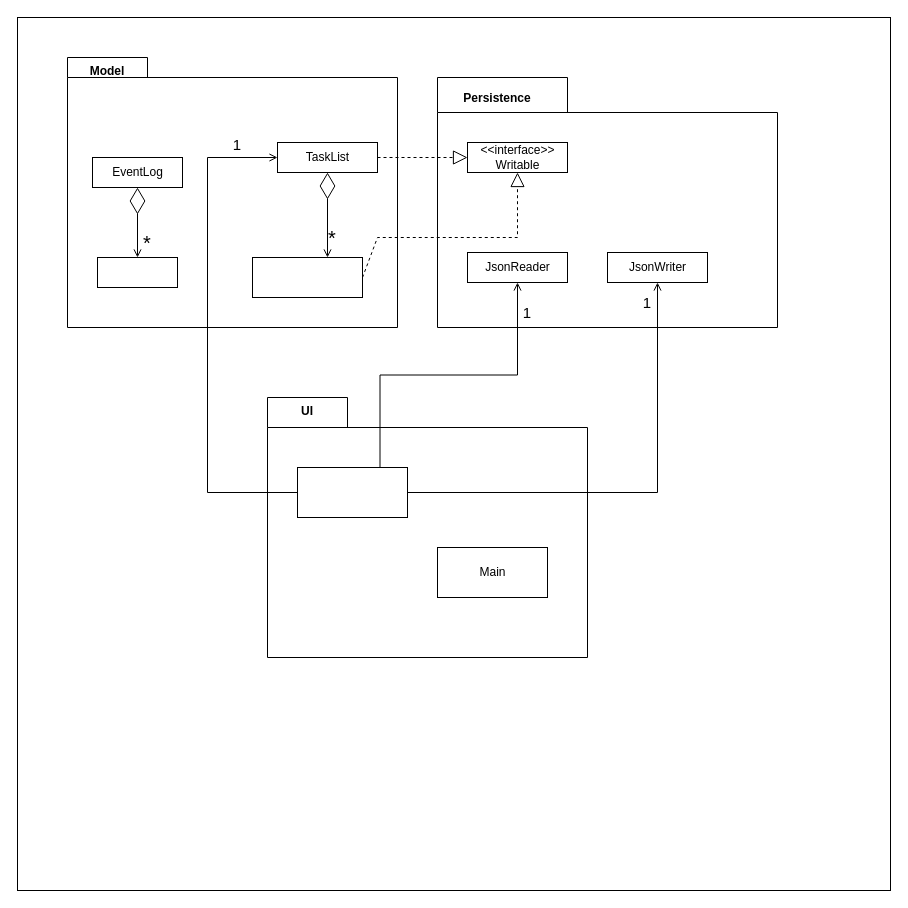
This 908x908 diagram has some shape labels left out. Here are the shapes that lost their labels. From the top down, the centre of each, then its label:
pixel 137 272: Event
pixel 307 277: Task
pixel 352 492: ToDoListApp
